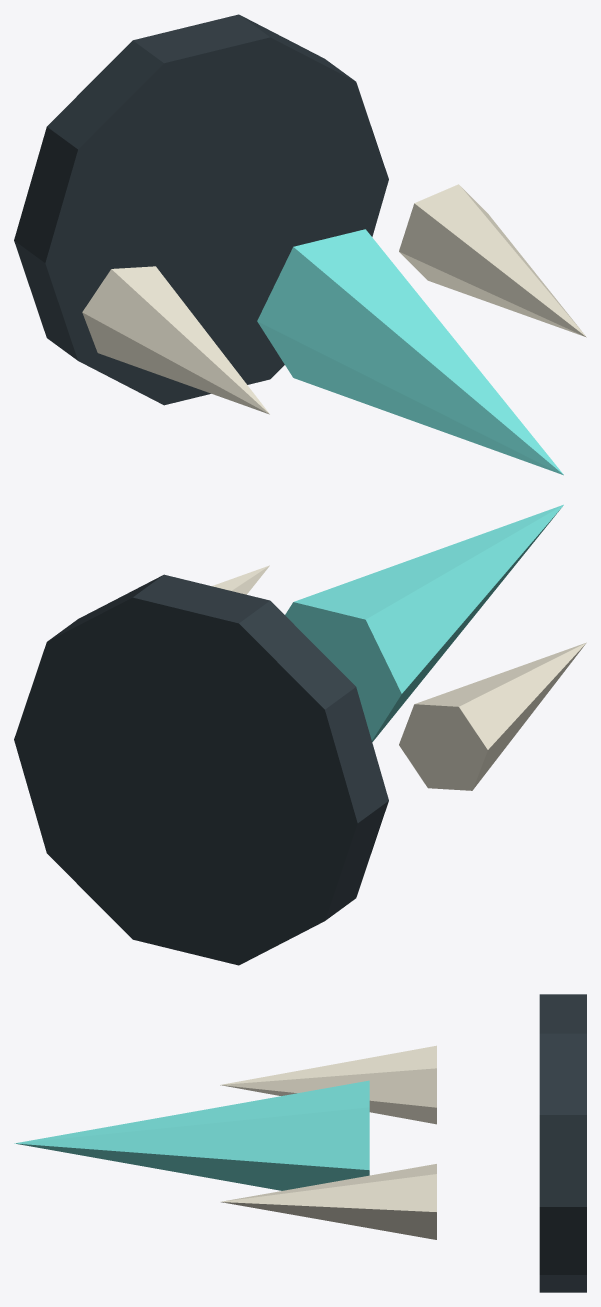
The model's file is 02_low_poly_silhouette_overlay_2.glb.
3 views of the same model, one above another, from view 1: azimuth 30°, elevation 25°; view 2: azimuth 150°, elevation 25°; view 3: azimuth 270°, elevation 25° (orthographic). The views are drawn at different scales.
Parts seen in each view (by area): view 1: socket_base, silhouette_spike_main, silhouette_spike_l, silhouette_spike_r; view 2: socket_base, silhouette_spike_main, silhouette_spike_l, silhouette_spike_r; view 3: silhouette_spike_main, socket_base, silhouette_spike_r, silhouette_spike_l.
Part boxes in pixels (box(x1,y1,x2,y2)): socket_base: box(14, 14, 388, 405); silhouette_spike_main: box(257, 229, 563, 475); silhouette_spike_l: box(82, 266, 269, 414); silhouette_spike_r: box(399, 184, 586, 337); socket_base: box(14, 574, 388, 965); silhouette_spike_main: box(285, 504, 563, 741); silhouette_spike_l: box(399, 642, 586, 790); silhouette_spike_r: box(212, 565, 269, 594); silhouette_spike_main: box(14, 1080, 369, 1190); socket_base: box(539, 994, 586, 1292); silhouette_spike_r: box(220, 1164, 436, 1239); silhouette_spike_l: box(220, 1045, 436, 1124).
Bounding box in the file's own units: 0.897 × 0.7228 × 1.45.
